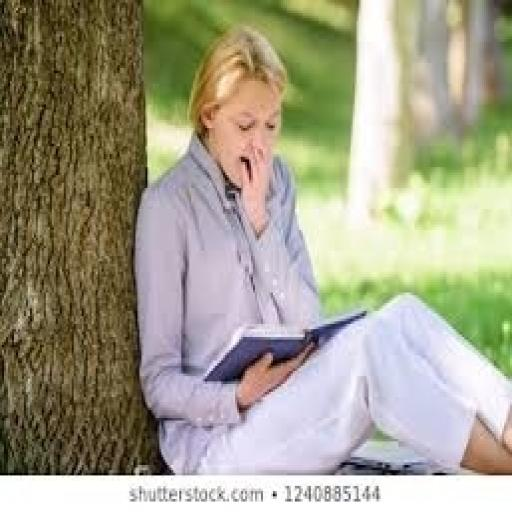sitting: (130, 24, 510, 476)
